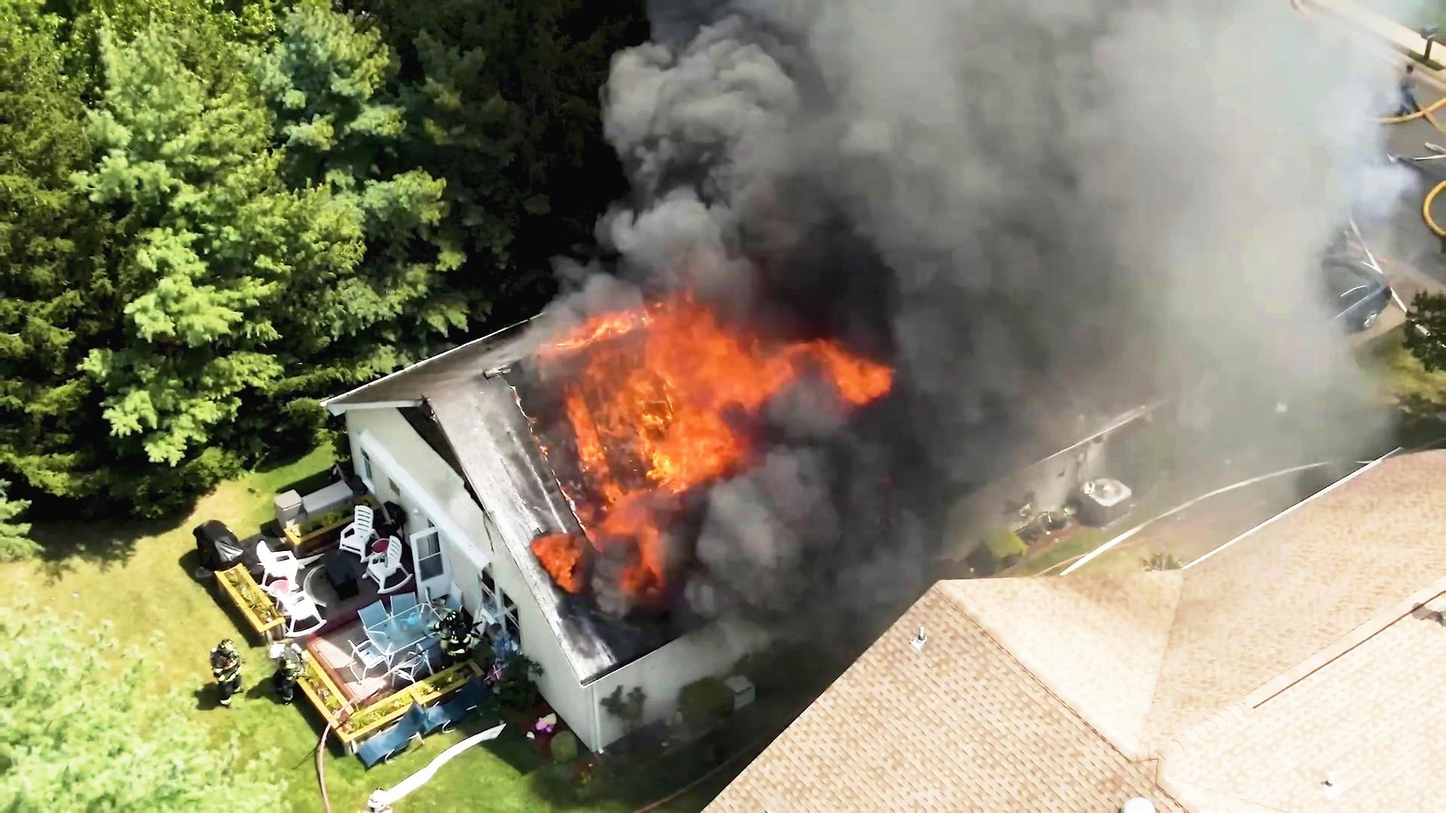fire: (578, 309, 752, 485)
smoke: (947, 0, 1331, 404), (667, 21, 1061, 274), (734, 429, 942, 622)
